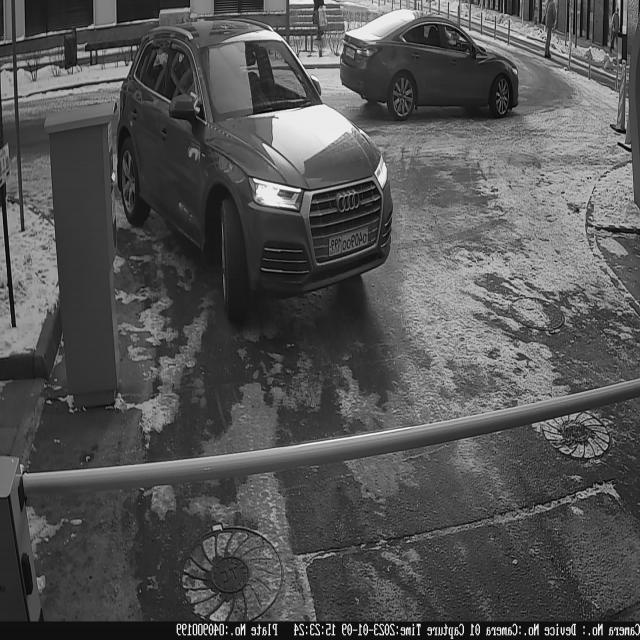car-plate-numbers: (328, 221, 373, 260)
